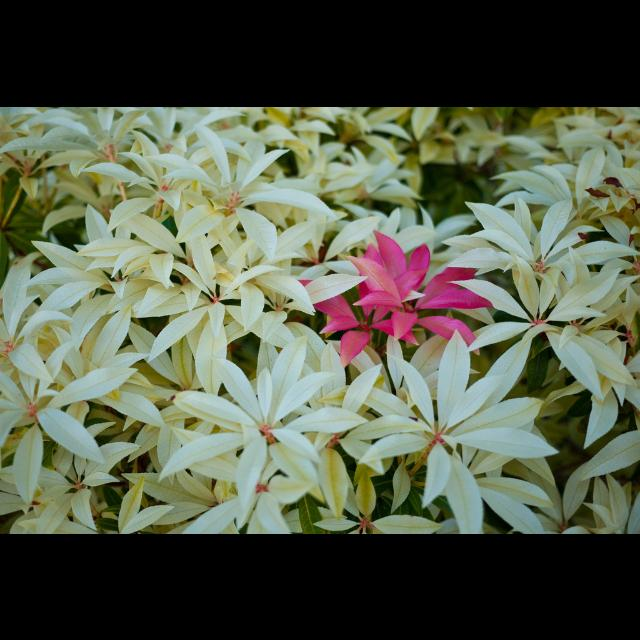Flower: (325, 221, 491, 365)
